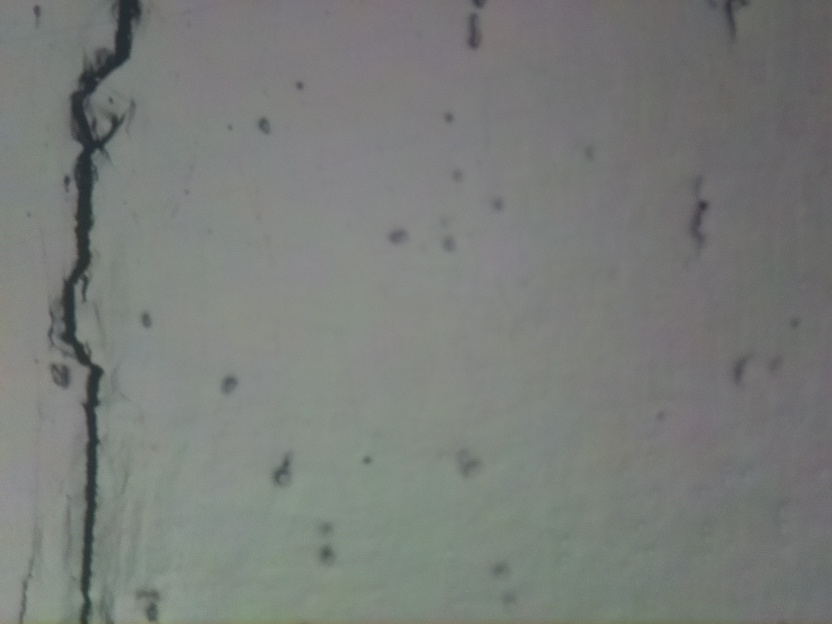crack: (61, 0, 140, 623)
